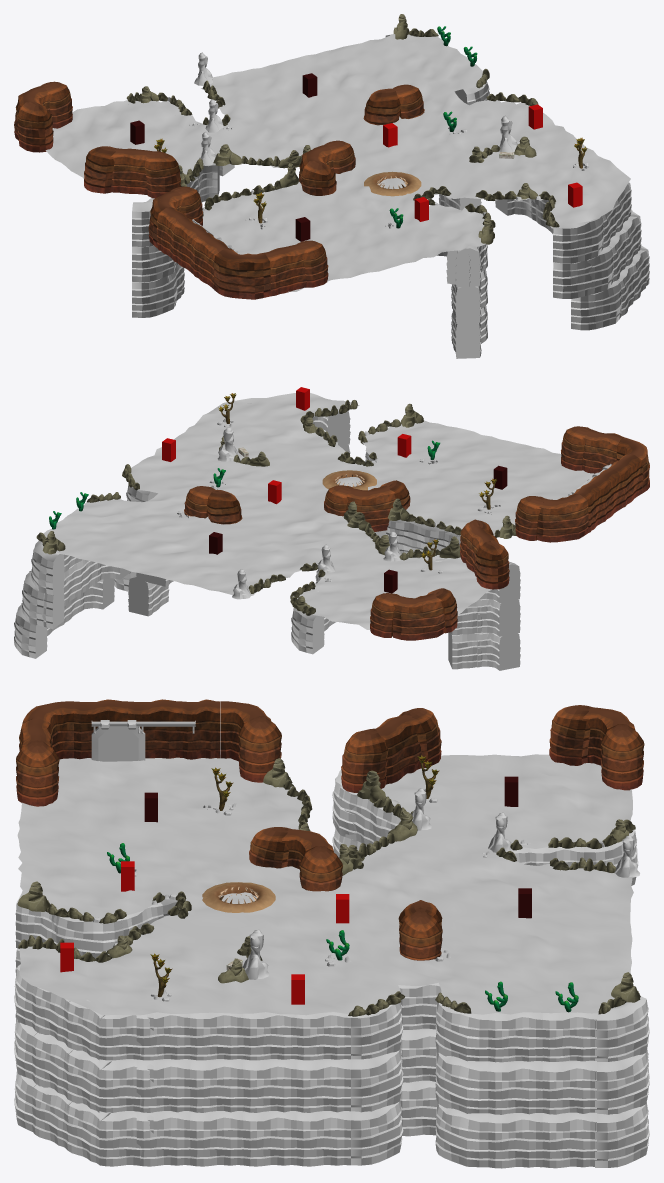
Rendered from Level1_Room5_Collapsed.fbx.
The picture shows the model from 3 angles, top to bottom: view 1: azimuth 30°, elevation 25°; view 2: azimuth 150°, elevation 25°; view 3: azimuth 270°, elevation 25°; orthographic projection. The views are drawn at different scales.
Visible parts, largest first — view 1: Plane074, level1_corner03, level1_wall051, MiddleRock027, GigaRock010, ColumnRock001, Base, Lil_Cactus001, MojabeTree; view 2: Plane074, level1_corner03, level1_wall051, MiddleRock027, GigaRock010, ColumnRock001, Base, MojabeTree, Lil_Cactus001, Stone007; view 3: Plane074, level1_wall051, level1_corner03, MiddleRock027, GigaRock010, ColumnRock001, level1_door, Base, Lil_Cactus001, MojabeTree, Stone007.
Boxes of the visible parts, x1,y1,x2,y2 form: Plane074: (45,34,630,291); level1_corner03: (14,81,424,299); level1_wall051: (128,34,649,358); MiddleRock027: (126,28,559,227); GigaRock010: (138,14,538,244); ColumnRock001: (194,52,517,165); Base: (364,171,421,196); Lil_Cactus001: (389,26,477,228); MojabeTree: (154,137,587,223); Plane074: (43,393,593,629); level1_corner03: (184,426,649,640); level1_wall051: (14,403,520,670); MiddleRock027: (36,400,500,615); GigaRock010: (42,403,516,611); ColumnRock001: (217,427,401,599); Base: (322,470,376,490); MojabeTree: (218,393,496,570); Lil_Cactus001: (49,440,440,529); Stone007: (177,419,500,597); Plane074: (17,754,633,1015); level1_wall051: (14,770,649,1168); level1_corner03: (16,699,644,960); MiddleRock027: (18,779,635,1016); GigaRock010: (17,758,640,1002); ColumnRock001: (242,788,639,979); level1_door: (91,720,145,761); Base: (202,882,275,912); Lil_Cactus001: (107,843,578,1012); MojabeTree: (150,755,439,997); Stone007: (93,786,604,1001).
Bounding box in the file's own units: 1940 × 622 × 1843.
